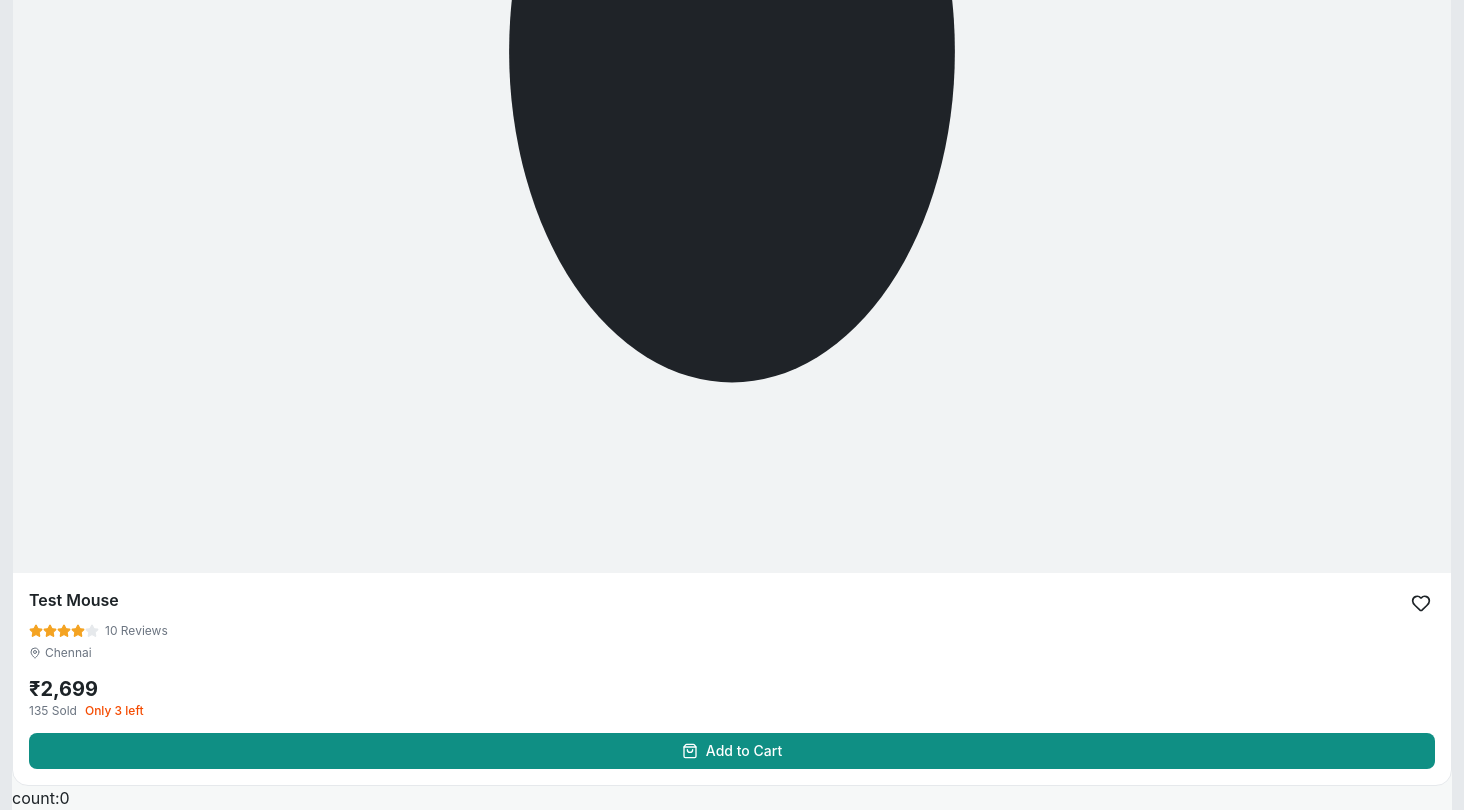
Scenario: ProductCard › adds to the guest cart
(page scrolled)
Click the button "Add to Cart": (732, 750) [29,732,1435,768]
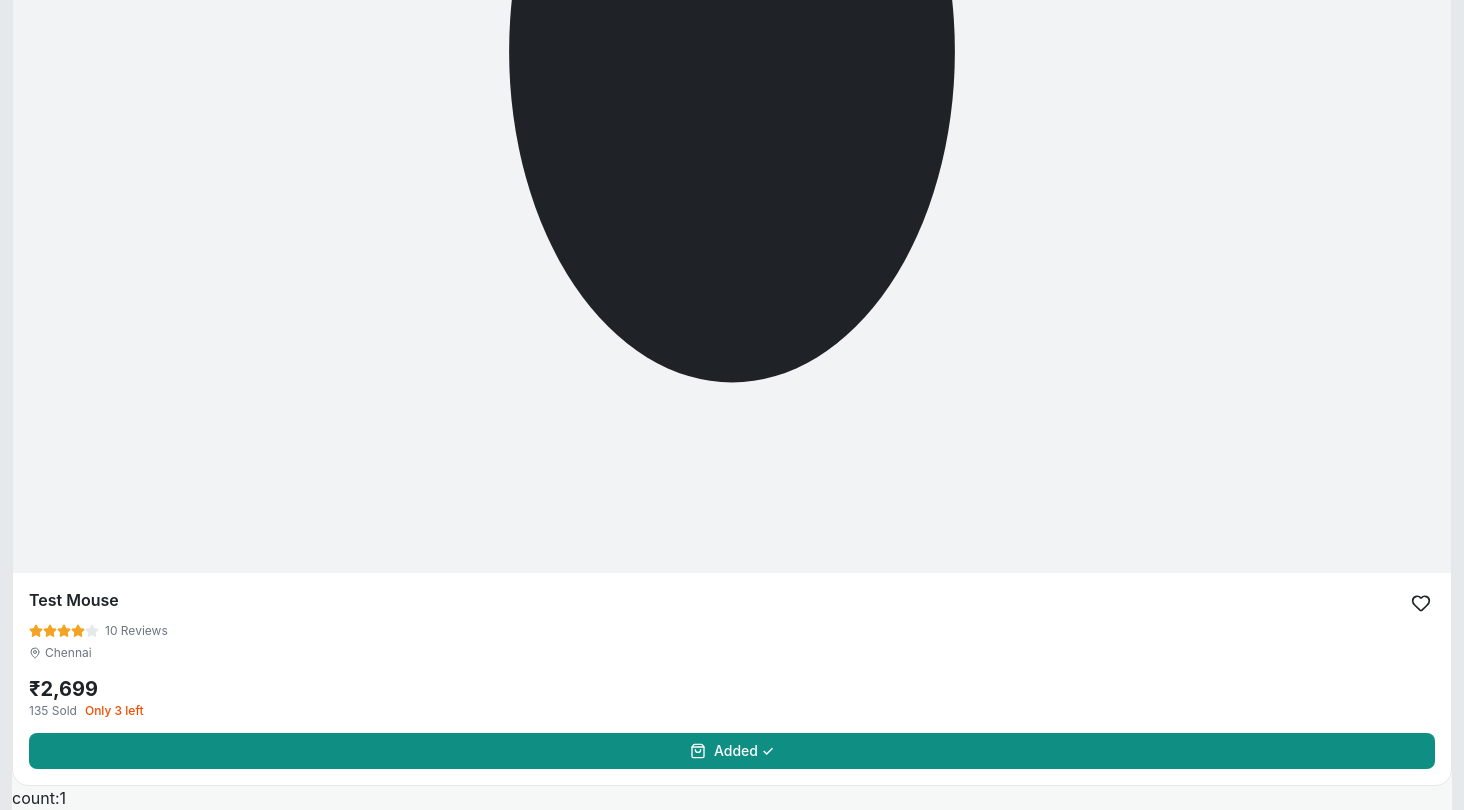
Expected: the text "count:1" is shown, [12,788,66,808]
